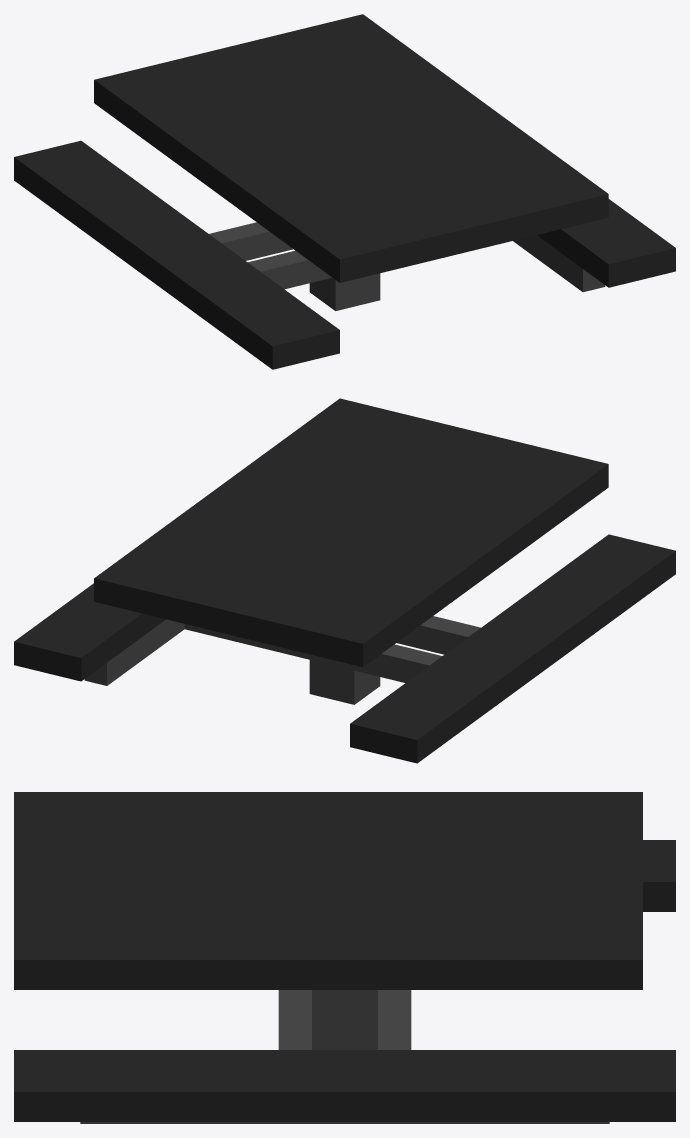
File: obj_table3a.fbx
3 views of the same model, one above another, from view 1: azimuth 30°, elevation 25°; view 2: azimuth 150°, elevation 25°; view 3: azimuth 270°, elevation 25° (orthographic). The views are drawn at different scales.
Parts seen in each view (by area): view 1: obj_table3a; view 2: obj_table3a; view 3: obj_table3a.
Part boxes in pixels (<box>): obj_table3a: <box>14,14,675,369</box>; obj_table3a: <box>14,398,675,763</box>; obj_table3a: <box>14,792,675,1123</box>.
Bounding box in the file's own units: 1.8 × 2 × 0.7.
1 material, 1 textured.
